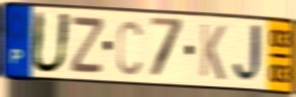7: (149, 15, 186, 83)
C: (116, 18, 143, 78)
J: (231, 22, 266, 86)
K: (199, 22, 227, 83)
U: (28, 9, 74, 77)
Z: (68, 16, 107, 76)
